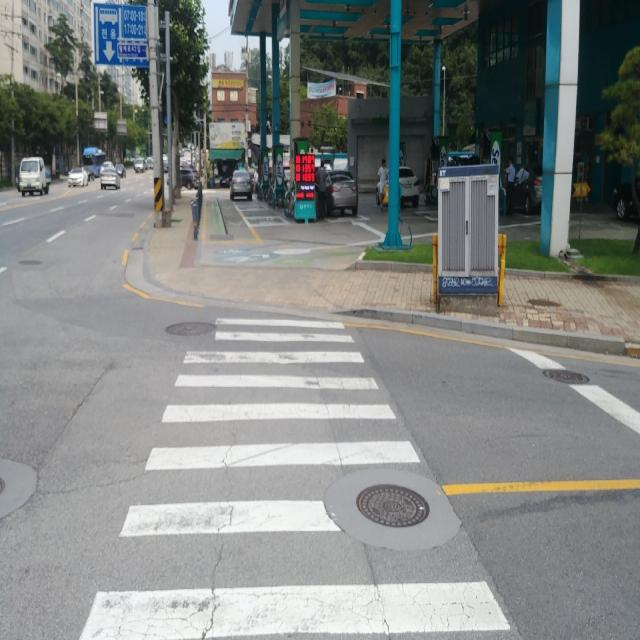횡단보도: (78, 318, 510, 640)
